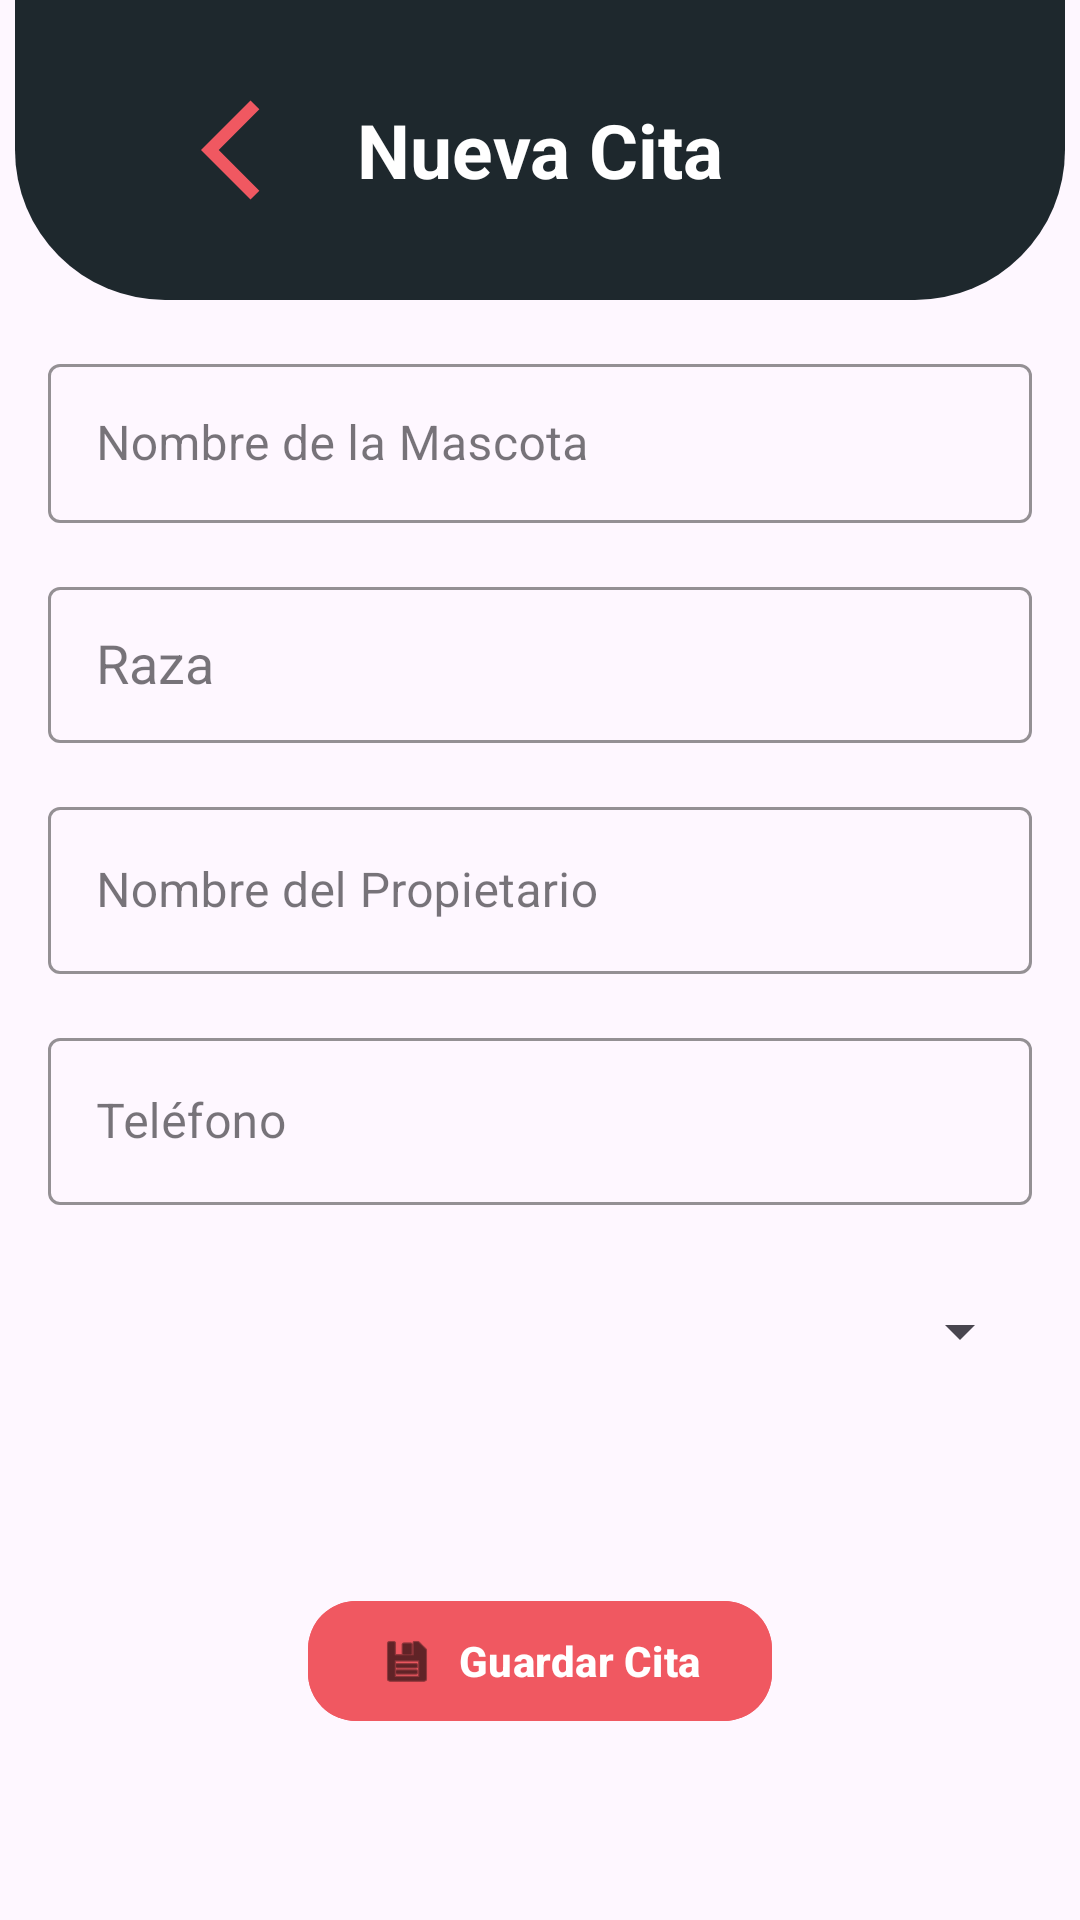

Icon bounding boxes for this 1080px×1920px phone screenshot, format (x1,y1,x2,y2):
Regresar: (201,100,259,200)
